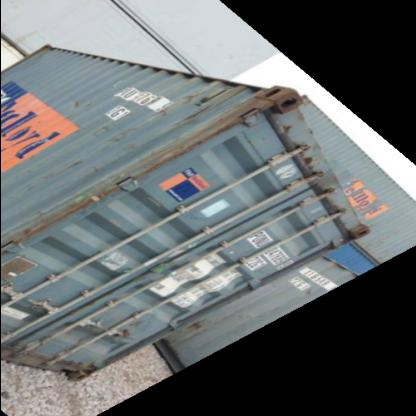Damage: (176, 78, 232, 108), (169, 104, 210, 135), (294, 148, 322, 176), (94, 113, 126, 135), (61, 156, 92, 175), (124, 311, 152, 330), (274, 122, 298, 134), (62, 100, 88, 110), (122, 142, 142, 153)
